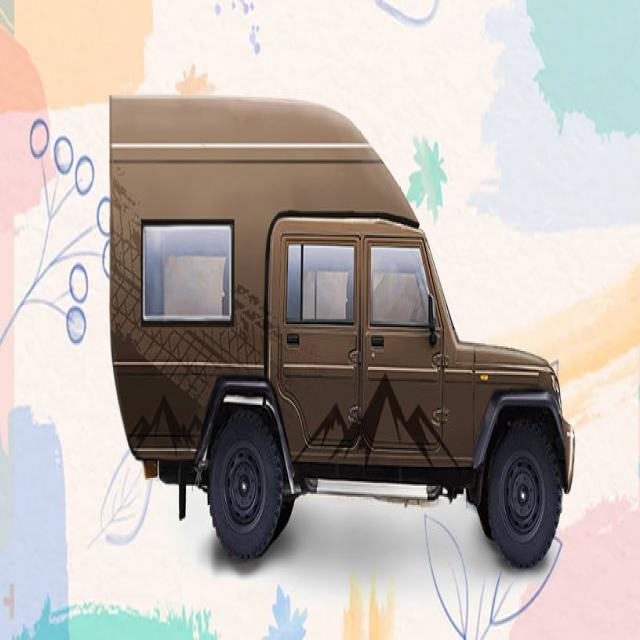light_vehicle: (114, 191, 574, 565)
